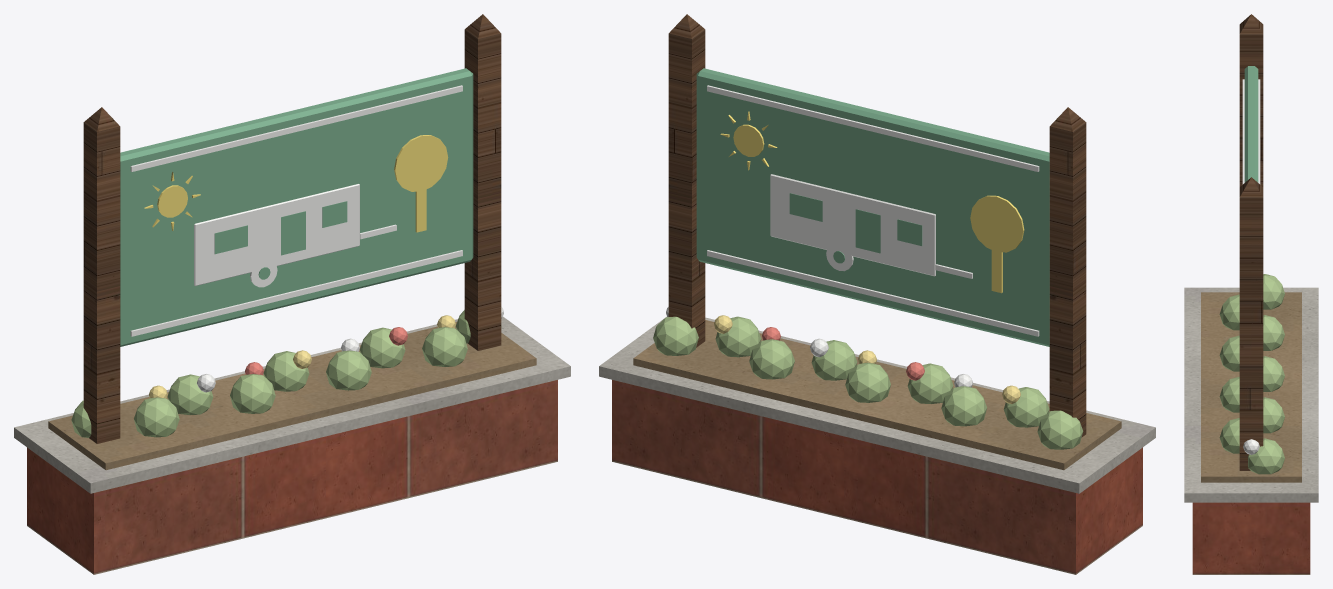
The model's file is sign_board.glb.
3 views of the same model, side by side, from view 1: azimuth 30°, elevation 25°; view 2: azimuth 150°, elevation 25°; view 3: azimuth 270°, elevation 25° (orthographic). The views are drawn at different scales.
Visible parts, largest first — view 1: sign_board_paint_g, sign_board_brick, sign_board_dkwood, sign_board_dirt, sign_board_paint_w, sign_board_concrete, sign_board_leaf2, sign_board_paint_y, sign_board_food_y; view 2: sign_board_paint_g, sign_board_brick, sign_board_dkwood, sign_board_dirt, sign_board_paint_w, sign_board_concrete, sign_board_leaf2, sign_board_paint_y, sign_board_food_y; view 3: sign_board_dirt, sign_board_concrete, sign_board_dkwood, sign_board_brick, sign_board_leaf2, sign_board_paint_g, sign_board_paint_w.
Boxes of the visible parts, x1,y1,x2,y2 form: sign_board_paint_g: (120, 68, 473, 346); sign_board_brick: (27, 380, 557, 574); sign_board_dkwood: (83, 14, 501, 443); sign_board_dirt: (48, 322, 536, 470); sign_board_paint_w: (130, 85, 503, 392); sign_board_concrete: (14, 316, 570, 493); sign_board_leaf2: (71, 310, 501, 437); sign_board_paint_y: (144, 135, 448, 232); sign_board_food_y: (149, 315, 455, 398); sign_board_paint_g: (696, 68, 1049, 346); sign_board_brick: (612, 380, 1142, 574); sign_board_dkwood: (668, 14, 1086, 437); sign_board_dirt: (633, 320, 1121, 470); sign_board_paint_w: (666, 85, 1039, 387); sign_board_concrete: (599, 316, 1155, 493); sign_board_leaf2: (653, 316, 1083, 449); sign_board_paint_y: (720, 111, 1024, 293); sign_board_food_y: (714, 315, 1020, 404); sign_board_dirt: (1201, 292, 1301, 482); sign_board_concrete: (1184, 287, 1318, 502); sign_board_dkwood: (1239, 14, 1263, 470); sign_board_brick: (1192, 502, 1310, 574); sign_board_leaf2: (1219, 274, 1284, 474); sign_board_paint_g: (1244, 66, 1258, 182); sign_board_paint_w: (1242, 79, 1260, 454).
Size of the model in its own units: 2.9 by 2.5 by 0.8.
10 materials, 4 textured.
